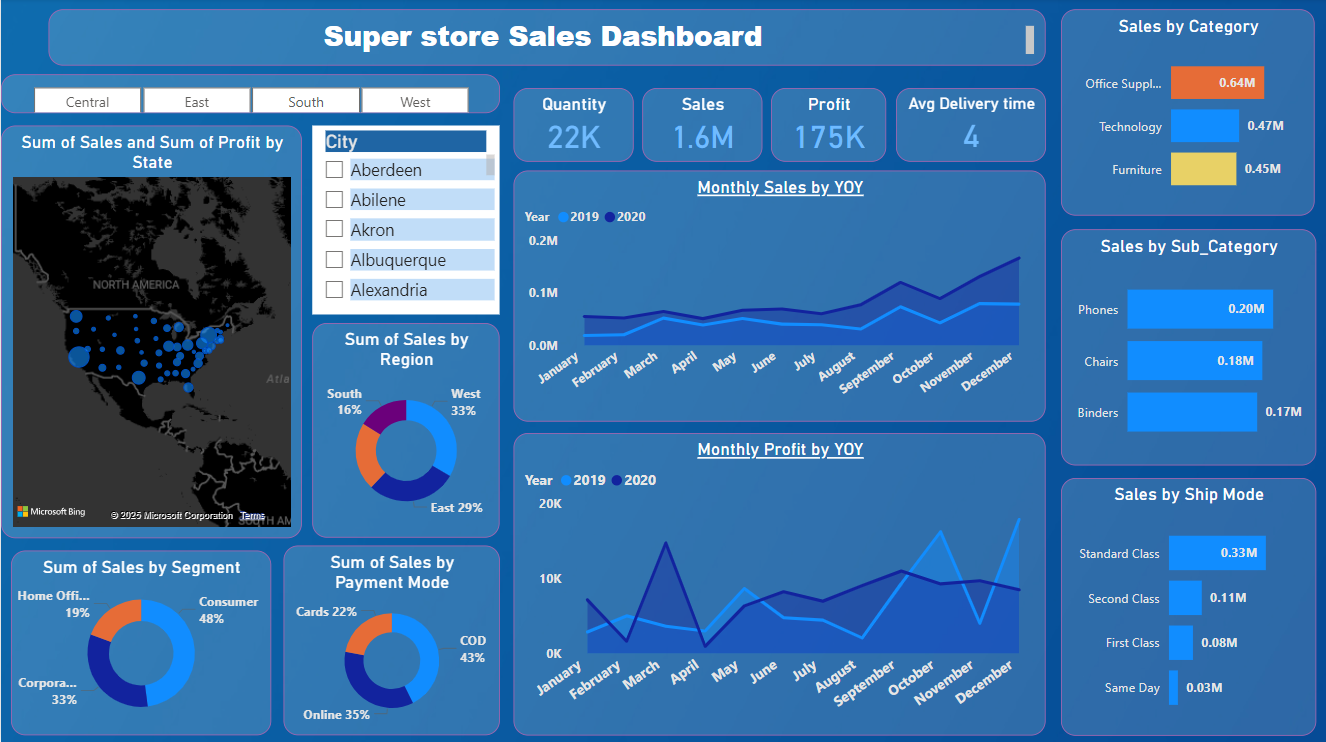

This screenshot's page, from the dashboard's own definition file:
{"tool":"powerbi","page":{"name":"Dashboard","canvas":[1280,720],"ordinal":0},"visuals":[{"type":"clusteredBarChart","title":"Sales by Category","fields":{"Category":["SuperStore_Sales_Dataset.Category"],"Y":["Sum(SuperStore_Sales_Dataset.Sales)"]},"box":[1023.1,10.9,244.9,199.1],"z":0},{"type":"clusteredBarChart","title":"Sales by Sub_Category","fields":{"Category":["SuperStore_Sales_Dataset.Sub-Category","SuperStore_Sales_Dataset.Category"],"Y":["Sum(SuperStore_Sales_Dataset.Sales)"]},"box":[1023.1,223.2,246.1,228],"z":1000},{"type":"clusteredBarChart","title":"Sales by Ship Mode","fields":{"Category":["SuperStore_Sales_Dataset.Ship Mode"],"Y":["Sum(SuperStore_Sales_Dataset.Sales)"]},"box":[1023.1,463.3,246.1,248.5],"z":2000},{"type":"areaChart","title":" Monthly Sales by YOY","fields":{"Y":["Sum(SuperStore_Sales_Dataset.Sales)"],"Category":["SuperStore_Sales_Dataset.Order Date.Variation.Date Hierarchy.Month","SuperStore_Sales_Dataset.Order Date.Variation.Date Hierarchy.Day"],"Series":["SuperStore_Sales_Dataset.Order Date.Variation.Date Hierarchy.Year"]},"box":[494.6,166.5,513.9,242.5],"z":3000},{"type":"areaChart","title":" Monthly Profit by YOY","fields":{"Category":["SuperStore_Sales_Dataset.Order Date.Variation.Date Hierarchy.Month","SuperStore_Sales_Dataset.Order Date.Variation.Date Hierarchy.Day"],"Series":["SuperStore_Sales_Dataset.Order Date.Variation.Date Hierarchy.Year"],"Y":["Sum(SuperStore_Sales_Dataset.Profit)"]},"box":[494.6,419.8,513.9,292],"z":4000},{"type":"map","fields":{"Category":["SuperStore_Sales_Dataset.State"],"Size":["Sum(SuperStore_Sales_Dataset.Sales)"]},"box":[0,123.1,290.8,398.1],"z":5000},{"type":"donutChart","fields":{"Category":["SuperStore_Sales_Dataset.Segment"],"Y":["Sum(SuperStore_Sales_Dataset.Sales)"]},"box":[9.7,533.2,250.9,178.6],"z":6000},{"type":"donutChart","fields":{"Y":["Sum(SuperStore_Sales_Dataset.Sales)"],"Category":["SuperStore_Sales_Dataset.Payment Mode"]},"box":[272.7,528.4,208.7,183.4],"z":7000},{"type":"slicer","fields":{"Values":["SuperStore_Sales_Dataset.Region"]},"box":[0,73.6,481.4,37.4],"z":8000},{"type":"card","title":"Profit","fields":{"Values":["Sum(SuperStore_Sales_Dataset.Profit)"]},"box":[743.2,86.9,111,71.2],"z":9000},{"type":"card","title":"Sales","fields":{"Values":["Sum(SuperStore_Sales_Dataset.Sales)"]},"box":[618.9,86.9,115.8,71.2],"z":10000},{"type":"textbox","box":[45.8,10.9,962.7,54.3],"z":11000},{"type":"card","title":"Quantity","fields":{"Values":["Sum(SuperStore_Sales_Dataset.Quantity)"]},"box":[494.6,86.9,115.8,71.2],"z":12000},{"type":"donutChart","fields":{"Category":["SuperStore_Sales_Dataset.Region"],"Y":["Sum(SuperStore_Sales_Dataset.Sales)"]},"box":[300.4,313.7,181,207.5],"z":13000},{"type":"slicer","fields":{"Values":["SuperStore_Sales_Dataset.City"]},"box":[300.4,123.1,181,182.2],"z":14000},{"type":"card","title":"Avg Delivery time","fields":{"Values":["Avg(SuperStore_Sales_Dataset.AvgDelivery)"]},"box":[863.8,86.9,144.8,71.2],"z":15000}]}

Visuals, with their boxes in screenshot pixels (x1, y1, x2, y2), scaled from the page's 1280x720 canvas onto the 1326x742 screenshot:
"Sales by Category" clusteredBarChart: {"left": 1060, "top": 11, "right": 1314, "bottom": 216}
"Sales by Sub_Category" clusteredBarChart: {"left": 1060, "top": 230, "right": 1315, "bottom": 465}
"Sales by Ship Mode" clusteredBarChart: {"left": 1060, "top": 477, "right": 1315, "bottom": 734}
" Monthly Sales by YOY" areaChart: {"left": 512, "top": 172, "right": 1045, "bottom": 421}
" Monthly Profit by YOY" areaChart: {"left": 512, "top": 433, "right": 1045, "bottom": 734}
map - SuperStore_Sales_Dataset.State x Sum(SuperStore_Sales_Dataset.Sales): {"left": 0, "top": 127, "right": 301, "bottom": 537}
donutChart - SuperStore_Sales_Dataset.Segment x Sum(SuperStore_Sales_Dataset.Sales): {"left": 10, "top": 549, "right": 270, "bottom": 734}
donutChart - Sum(SuperStore_Sales_Dataset.Sales) x SuperStore_Sales_Dataset.Payment Mode: {"left": 283, "top": 545, "right": 499, "bottom": 734}
slicer - SuperStore_Sales_Dataset.Region: {"left": 0, "top": 76, "right": 499, "bottom": 114}
"Profit" card: {"left": 770, "top": 90, "right": 885, "bottom": 163}
"Sales" card: {"left": 641, "top": 90, "right": 761, "bottom": 163}
textbox: {"left": 47, "top": 11, "right": 1045, "bottom": 67}
"Quantity" card: {"left": 512, "top": 90, "right": 632, "bottom": 163}
donutChart - SuperStore_Sales_Dataset.Region x Sum(SuperStore_Sales_Dataset.Sales): {"left": 311, "top": 323, "right": 499, "bottom": 537}
slicer - SuperStore_Sales_Dataset.City: {"left": 311, "top": 127, "right": 499, "bottom": 315}
"Avg Delivery time" card: {"left": 895, "top": 90, "right": 1045, "bottom": 163}
